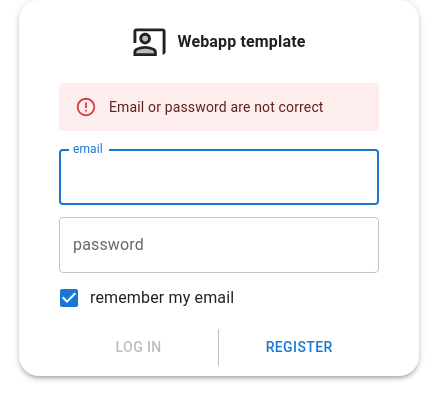
Test case: login form tests › login integration test with correct login data
In the field labelled "email": [219, 177] box x1=59 y1=149 x2=379 y2=205, type "fake@user.com"
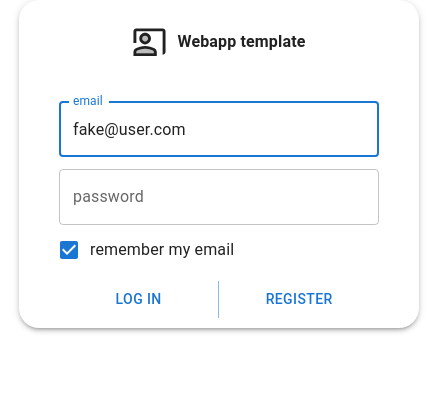
In the password field labelled "password": [219, 197] box x1=59 y1=169 x2=379 y2=225, type "not fake password"
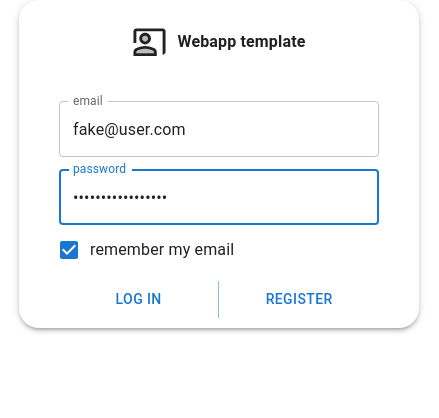
Click the button with test id "loginBtn": [139, 299] box x1=59 y1=281 x2=219 y2=318
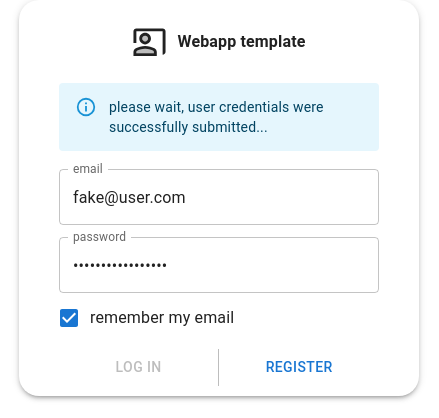
Expected: the text "please wait, user credentials were successfully submitted..." is shown, x1=109 y1=99 x2=324 y2=135
